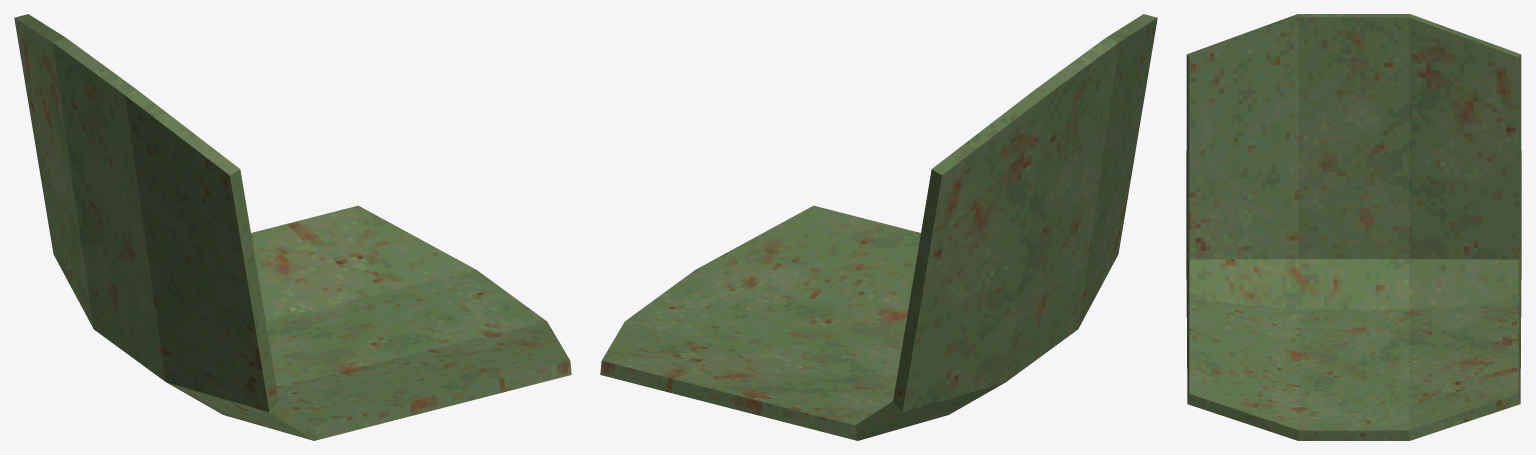
The model's file is busstop_single_seat_loose_alt.glb.
3 renders of one model, left to right at view 1: azimuth 30°, elevation 25°; view 2: azimuth 150°, elevation 25°; view 3: azimuth 270°, elevation 25°, orthographic. The views are drawn at different scales.
Visible parts, largest first — view 1: busstop_single_seat_loose_alt; view 2: busstop_single_seat_loose_alt; view 3: busstop_single_seat_loose_alt.
Part boxes in pixels (box(x1,y1,x2,y2)): busstop_single_seat_loose_alt: box(14, 14, 571, 440); busstop_single_seat_loose_alt: box(600, 14, 1157, 440); busstop_single_seat_loose_alt: box(1186, 14, 1521, 440).
Size of the model in its own units: 0.692 by 0.54 by 0.6118.
Materials: 1 (1 with a texture image).
